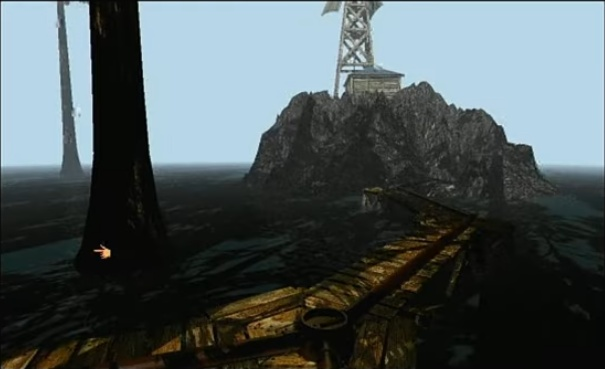Pointer: (91, 239, 113, 261)
